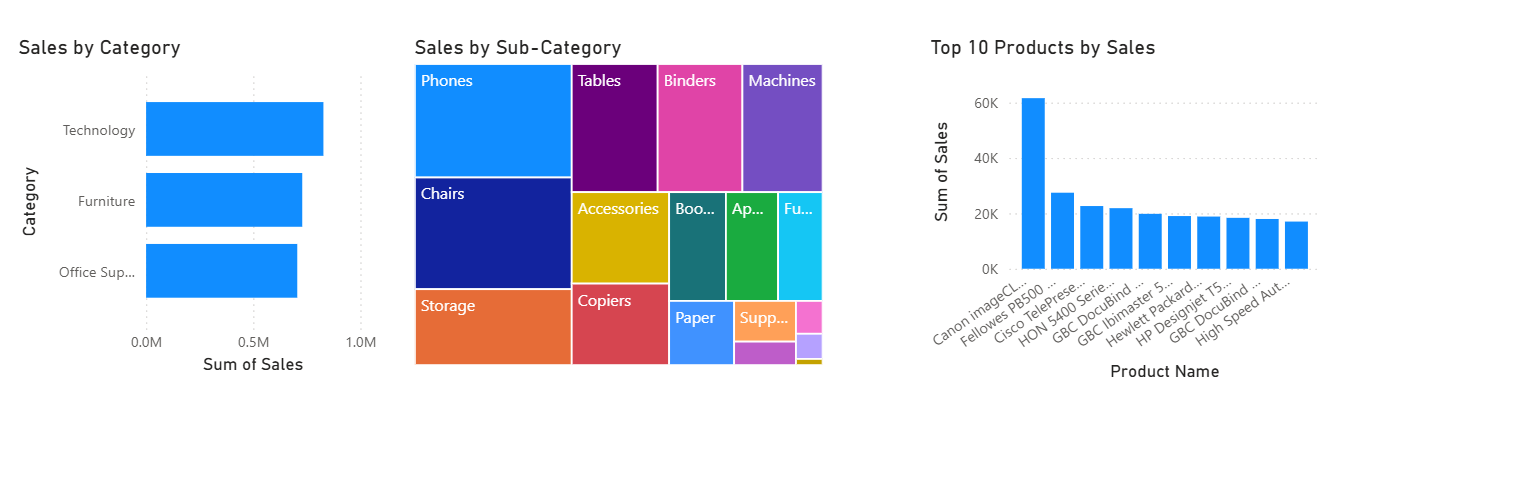

Layout of this report page (visuals, bound fields, positions):
{"tool":"powerbi","page":{"name":"PRODUCT INSIGHTS","canvas":[1280,720],"ordinal":2},"visuals":[{"type":"clusteredBarChart","title":" Sales by Category","fields":{"Category":["train.Category"],"Y":["Sum(train.Sales)"]},"box":[14.3,31.4,308.6,287.1],"z":0},{"type":"treemap","title":" Sales by Sub-Category","fields":{"Group":["train.Sub-Category"],"Values":["Sum(train.Sales)"]},"box":[343.3,30.8,349.8,280.1],"z":1000},{"type":"clusteredColumnChart","title":"Top 10 Products by Sales","fields":{"Category":["train.Product Name"],"Y":["Sum(train.Sales)"]},"box":[774.3,31.4,334.3,292.9],"z":2000}]}

Visuals, with their boxes on the page's 1280x720 design canvas (x1, y1, x2, y2). These are canvas units, not pixel positions in the 1526x491 screenshot, which may show the page scaled, cropped or inside an application window:
" Sales by Category" clusteredBarChart: locate(14, 31, 323, 318)
" Sales by Sub-Category" treemap: locate(343, 31, 693, 311)
"Top 10 Products by Sales" clusteredColumnChart: locate(774, 31, 1109, 324)
